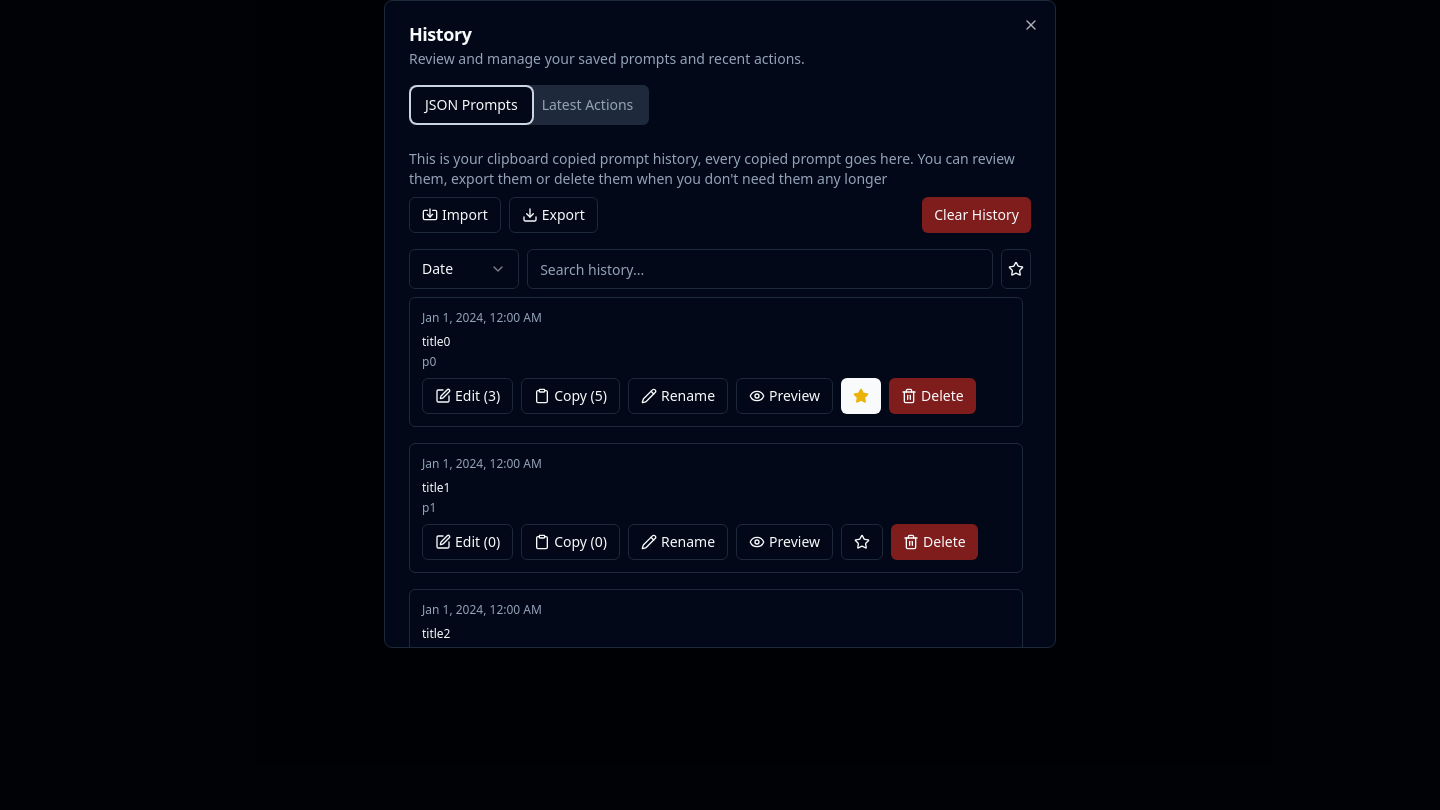
Scenario: HistoryPanel basic actions › filters history based on search input
The image size is (1440, 810).
Type "p1" into the field with placeholder "Search history..." at (760, 269), box x1=527 y1=249 x2=993 y2=289
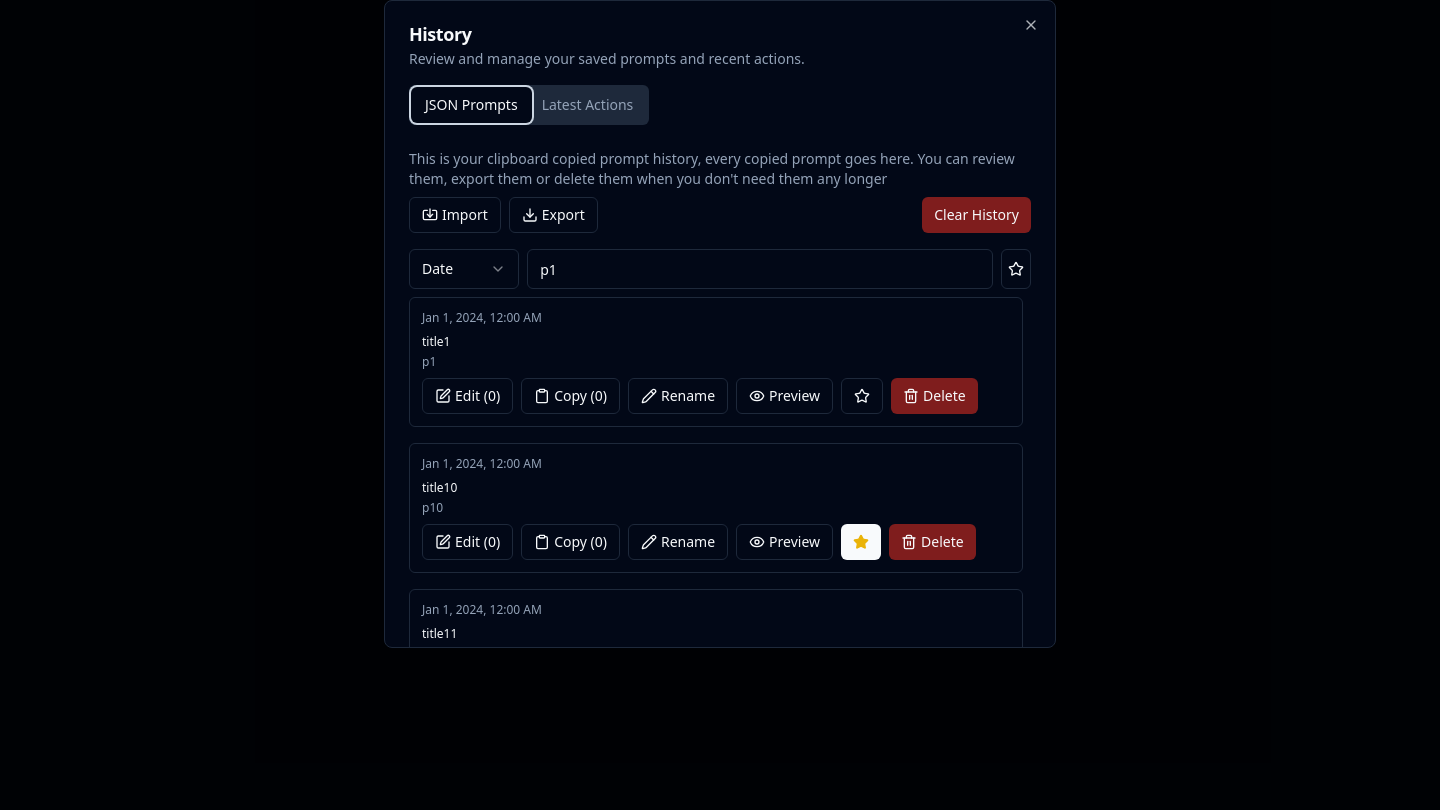
Expected: the text "p2" is not shown
Expected: the text "p1" is shown, x1=422 y1=353 x2=436 y2=370
Replace the text in the field with placeholder "Search history..." with "title2" at (760, 269), box x1=527 y1=249 x2=993 y2=289
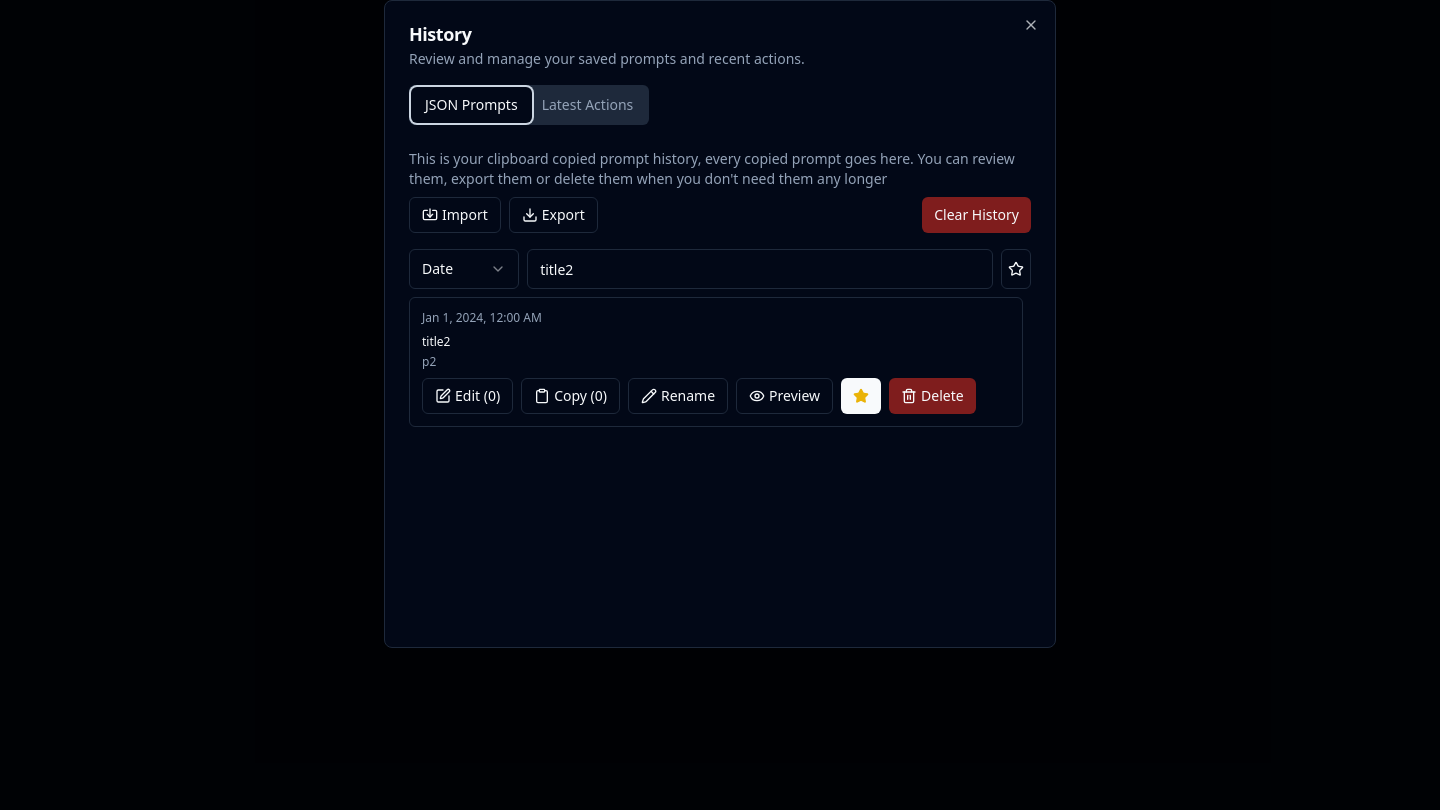
Result: the text "p1" is gone
Result: the text "title2" is shown at x1=422 y1=333 x2=450 y2=350
